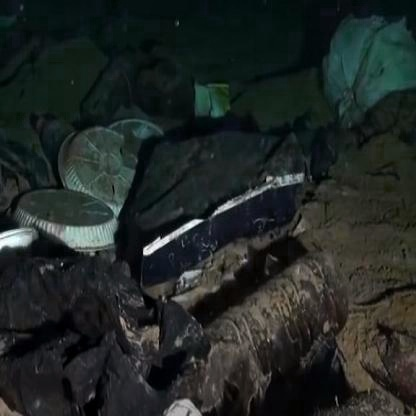pbottle: (171, 286, 350, 399)
plastic: (60, 120, 166, 249), (14, 174, 130, 272)
